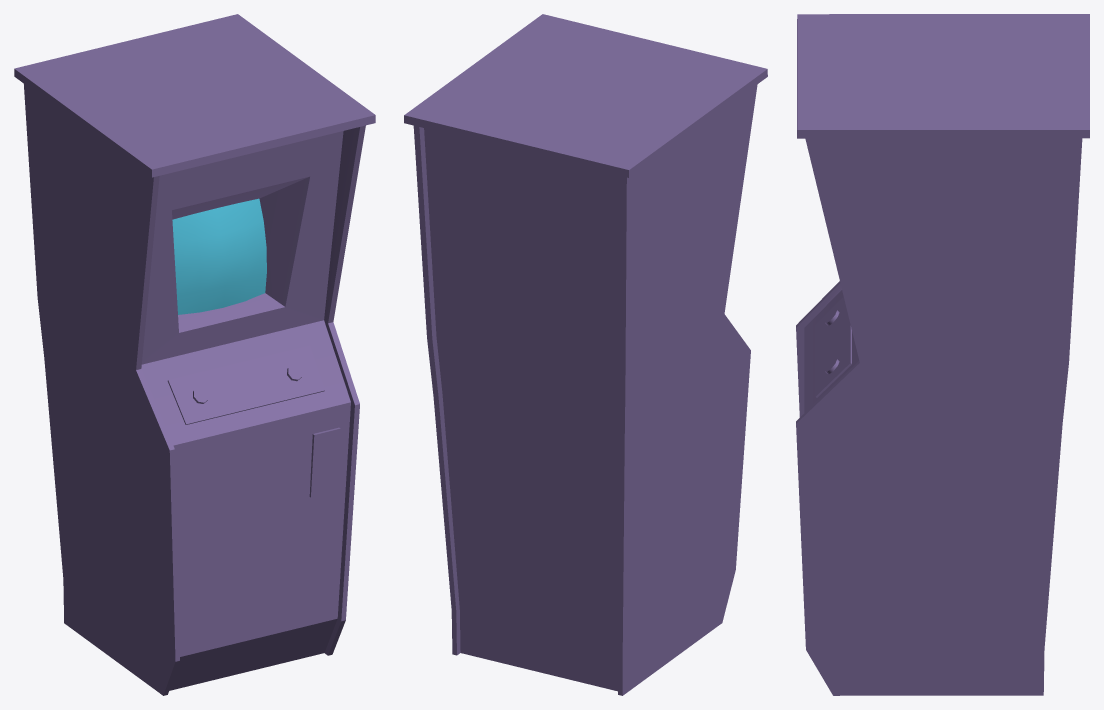
The model's file is arcade_rrft.fbx.
3 views of the same model, side by side, from view 1: azimuth 30°, elevation 25°; view 2: azimuth 150°, elevation 25°; view 3: azimuth 270°, elevation 25° (orthographic). The views are drawn at different scales.
Parts seen in each view (by area): view 1: Arcade_RRFT, Screen_Plane; view 2: Arcade_RRFT; view 3: Arcade_RRFT.
Boxes of the visible parts, x1,y1,x2,y2 form: Arcade_RRFT: (14, 14, 375, 695); Screen_Plane: (172, 198, 266, 314); Arcade_RRFT: (404, 14, 767, 695); Arcade_RRFT: (796, 14, 1089, 695).
Size of the model in its own units: 0.9253 by 2.16 by 0.9914.
